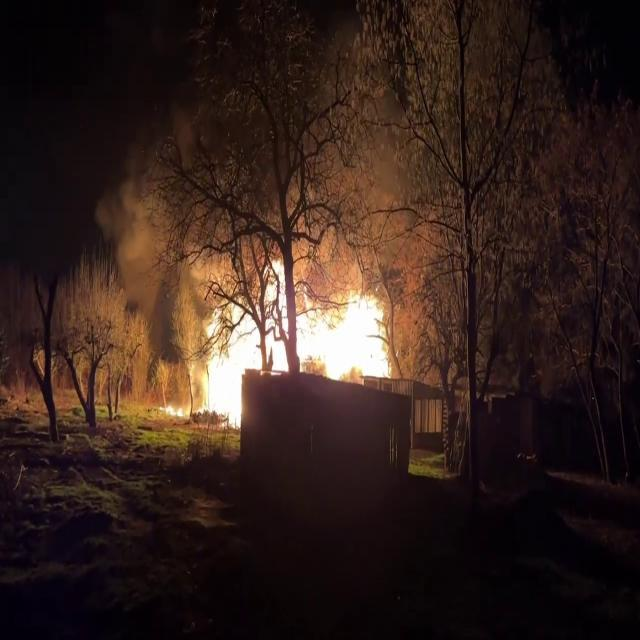Fire: (188, 250, 398, 430)
Smoke: (281, 0, 512, 240), (88, 138, 190, 389)
